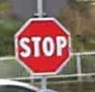stop: (14, 14, 72, 76)
